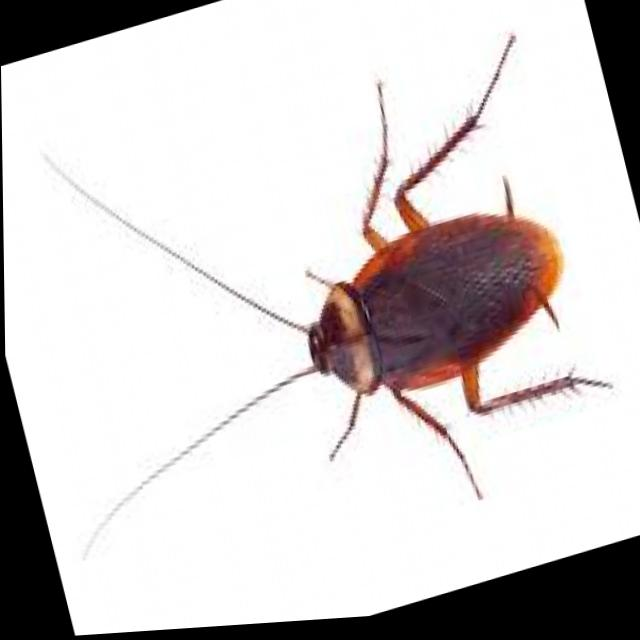Cockroach: (1, 12, 640, 628)
